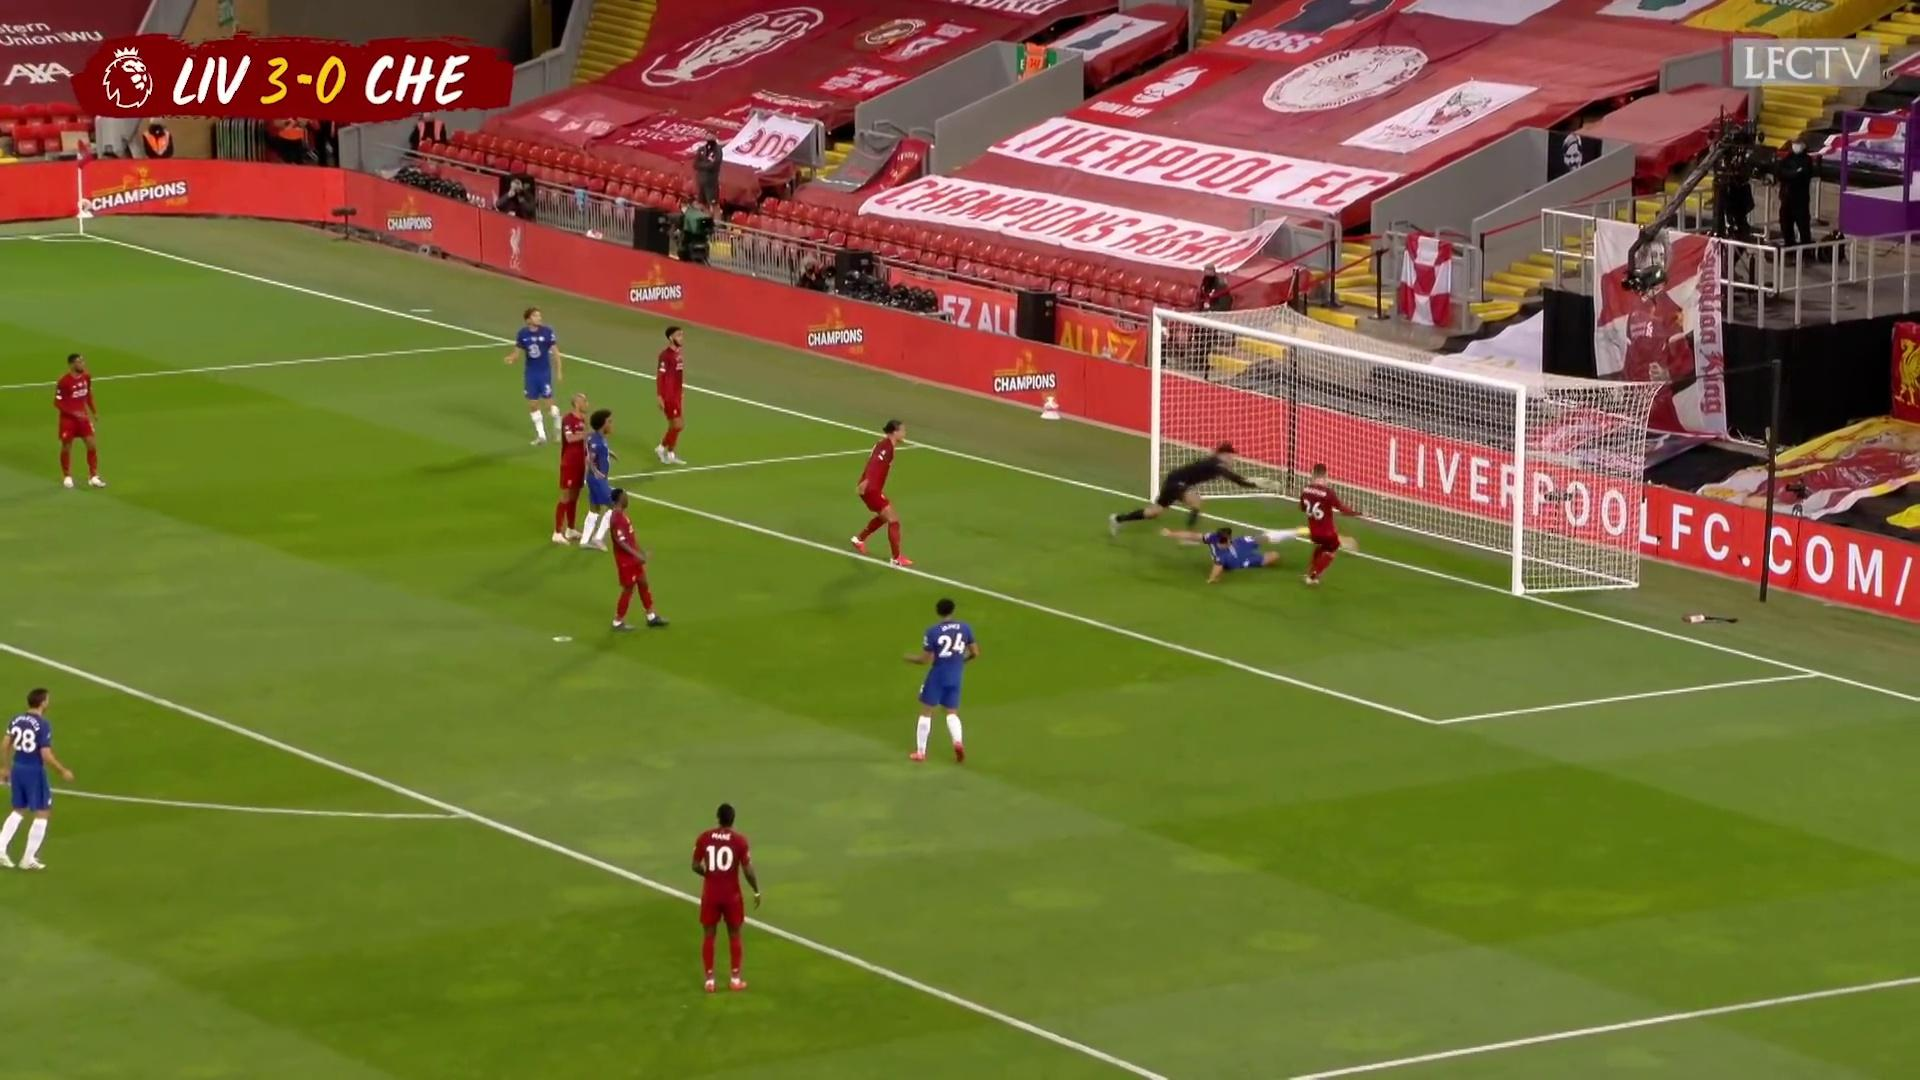ball: (1337, 531, 1362, 556)
